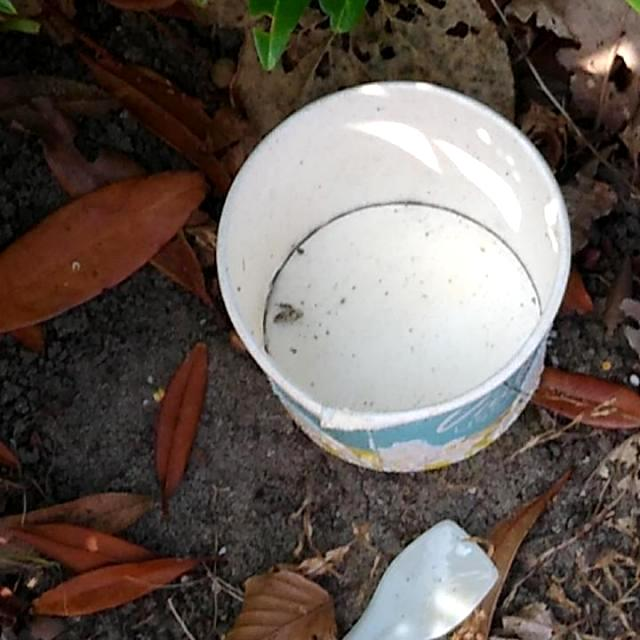Paper: (210, 74, 574, 476)
